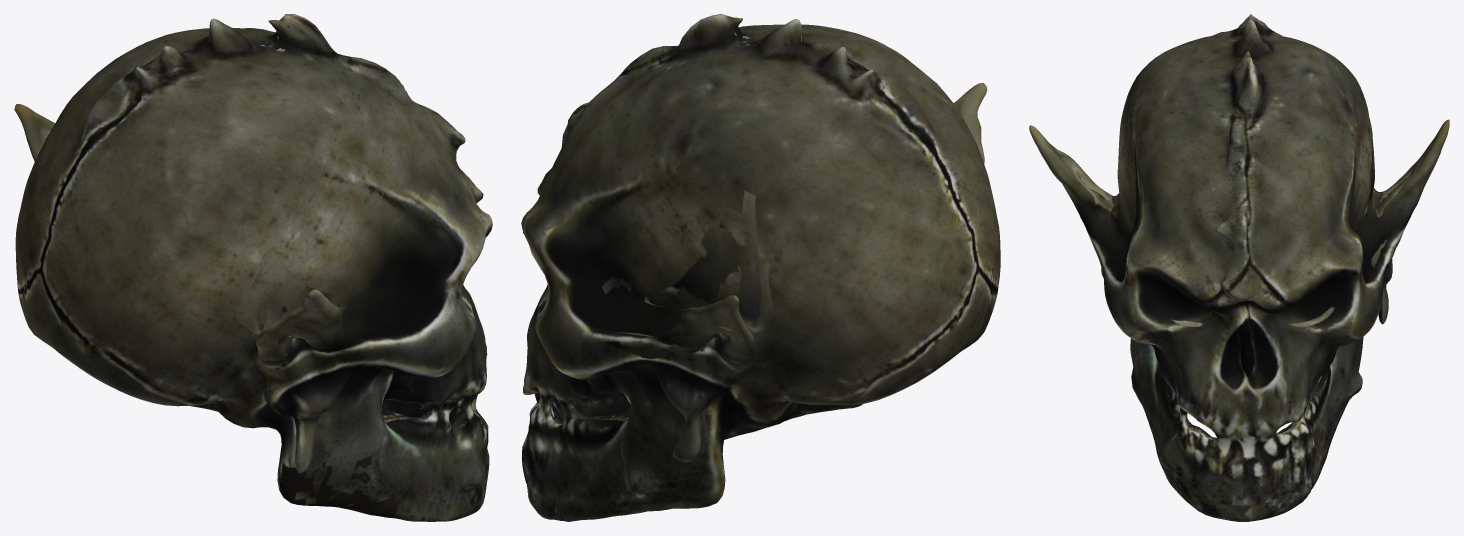
File: 2d03428b3a31_orc_skull_min.fbx
The picture shows the model from 3 angles, left to right: view 1: azimuth 30°, elevation 25°; view 2: azimuth 150°, elevation 25°; view 3: azimuth 270°, elevation 25°; orthographic projection. The views are drawn at different scales.
Visible parts, largest first — view 1: mesh; view 2: mesh; view 3: mesh.
Boxes of the visible parts, x1,y1,x2,y2 form: mesh: (14, 14, 492, 521); mesh: (521, 14, 1000, 521); mesh: (1029, 14, 1449, 521).
Size of the model in its own units: 85.59 by 98.82 by 92.25.
